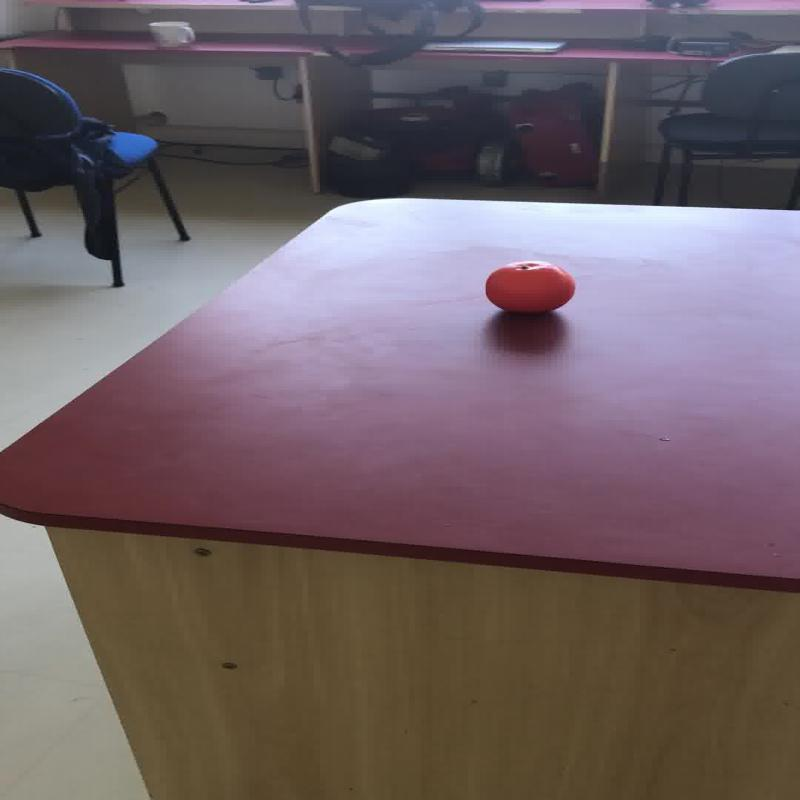orange: (483, 259, 575, 313)
